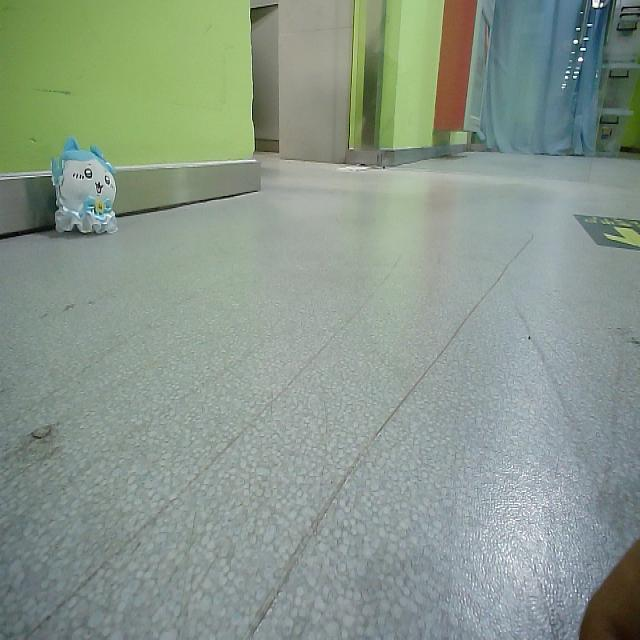xiaoba: (49, 132, 119, 236)
